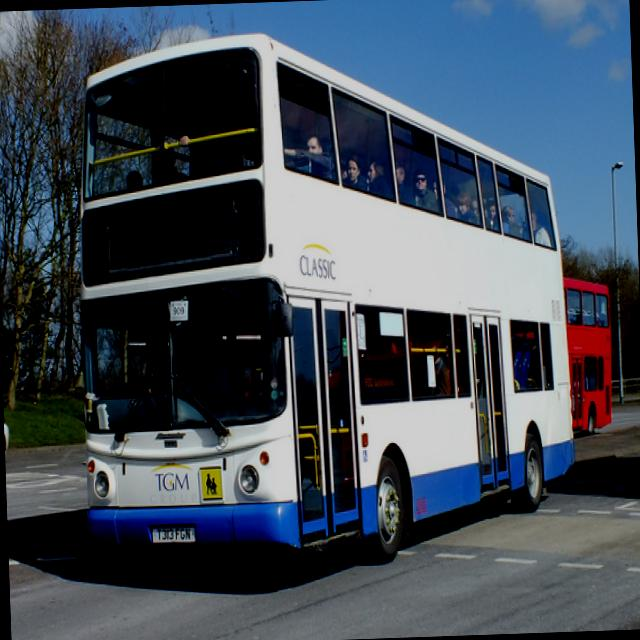Vehicle: (68, 20, 582, 572), (565, 266, 617, 436)
